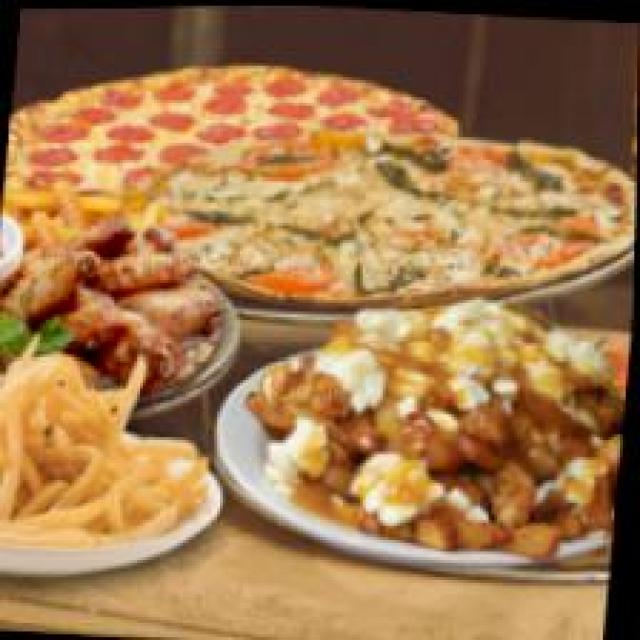Chicken Wings: (0, 207, 232, 378)
French Fries: (0, 342, 226, 564)
